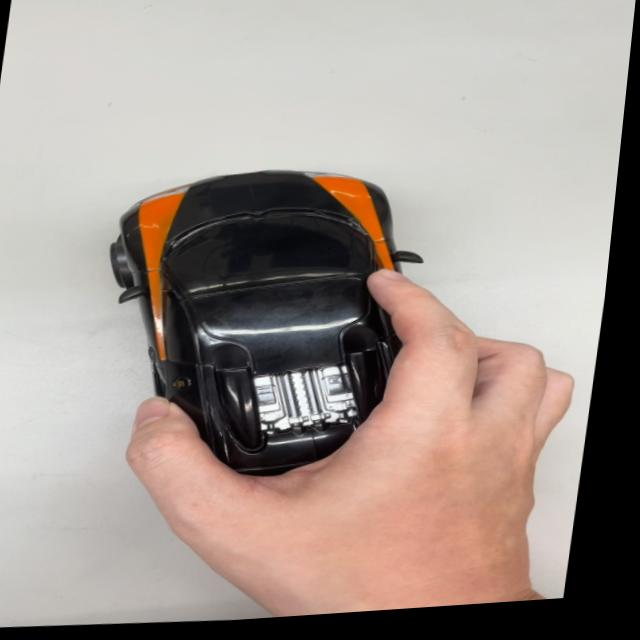vehicle_body: (70, 146, 472, 496)
